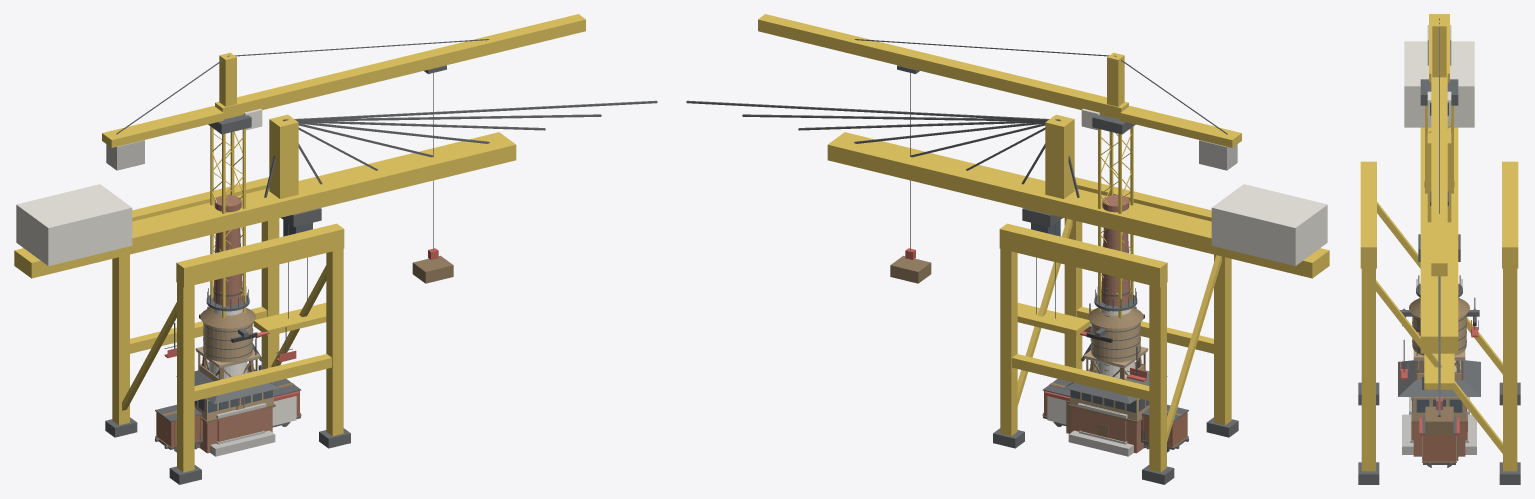
File: props.glb
The picture shows the model from 3 angles, left to right: view 1: azimuth 30°, elevation 25°; view 2: azimuth 150°, elevation 25°; view 3: azimuth 270°, elevation 25°; orthographic projection. The views are drawn at different scales.
Visible parts, largest first — view 1: portainer.crane, towercrane.crane, portainer.white, portainer.steel, chimney.brick, watertower.wood, towercrane.steel, lighthouse.white, towercrane.concrete, watertower.wooddark, towercrane.wooddark, boxcar.rust (+3 smaller); view 2: portainer.crane, towercrane.crane, portainer.white, portainer.steel, chimney.brick, watertower.wood, towercrane.steel, towercrane.concrete, watertower.wooddark, lighthouse.white, towercrane.wooddark, lighthouse.concrete (+2 smaller); view 3: portainer.crane, towercrane.crane, portainer.white, signalbox.steel, portainer.steel, boxcar.rust, towercrane.wooddark, towercrane.steel, lighthouse.concrete, watertower.wood, signalbox.brick, signalbox.wood (+7 smaller).
Boxes of the visible parts, x1,y1,x2,y2 form: portainer.crane: [14, 114, 516, 472]; towercrane.crane: [102, 14, 585, 318]; portainer.white: [16, 184, 132, 265]; portainer.steel: [105, 100, 657, 484]; chimney.brick: [213, 195, 263, 441]; watertower.wood: [195, 323, 260, 367]; towercrane.steel: [116, 39, 489, 250]; lighthouse.white: [208, 309, 296, 425]; towercrane.concrete: [106, 140, 264, 444]; watertower.wooddark: [200, 308, 255, 378]; towercrane.wooddark: [412, 255, 453, 283]; boxcar.rust: [156, 391, 299, 447]; portainer.crane: [827, 114, 1329, 472]; towercrane.crane: [758, 14, 1241, 318]; portainer.white: [1211, 184, 1327, 265]; portainer.steel: [686, 100, 1238, 484]; chimney.brick: [1080, 195, 1130, 441]; watertower.wood: [1083, 323, 1148, 367]; towercrane.steel: [854, 39, 1227, 250]; towercrane.concrete: [1079, 140, 1237, 444]; watertower.wooddark: [1088, 308, 1143, 378]; lighthouse.white: [1047, 309, 1135, 424]; towercrane.wooddark: [890, 255, 931, 283]; lighthouse.concrete: [1068, 430, 1133, 456]; portainer.crane: [1360, 127, 1518, 471]; towercrane.crane: [1425, 14, 1453, 276]; portainer.white: [1404, 41, 1474, 127]; signalbox.steel: [1398, 360, 1480, 396]; portainer.steel: [1358, 234, 1520, 484]; boxcar.rust: [1422, 434, 1456, 461]; towercrane.wooddark: [1425, 406, 1453, 434]; towercrane.steel: [1420, 18, 1458, 213]; lighthouse.concrete: [1402, 414, 1476, 454]; watertower.wood: [1412, 314, 1466, 359]; signalbox.brick: [1413, 423, 1465, 456]; signalbox.wood: [1412, 397, 1466, 420].
Size of the model in its own units: 68.02 by 39.06 by 13.8.
